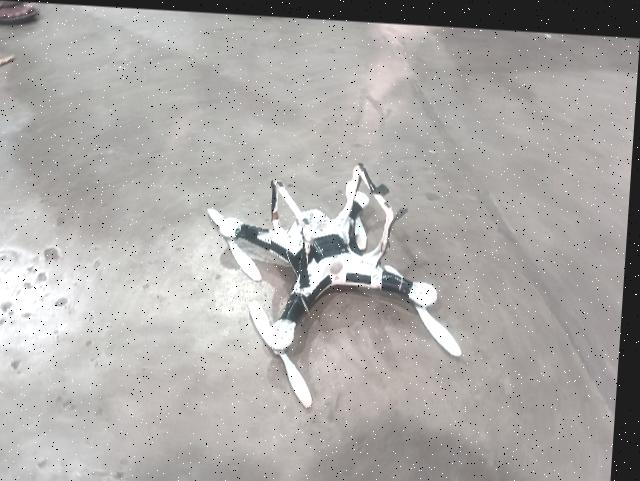drone: (215, 144, 452, 344)
